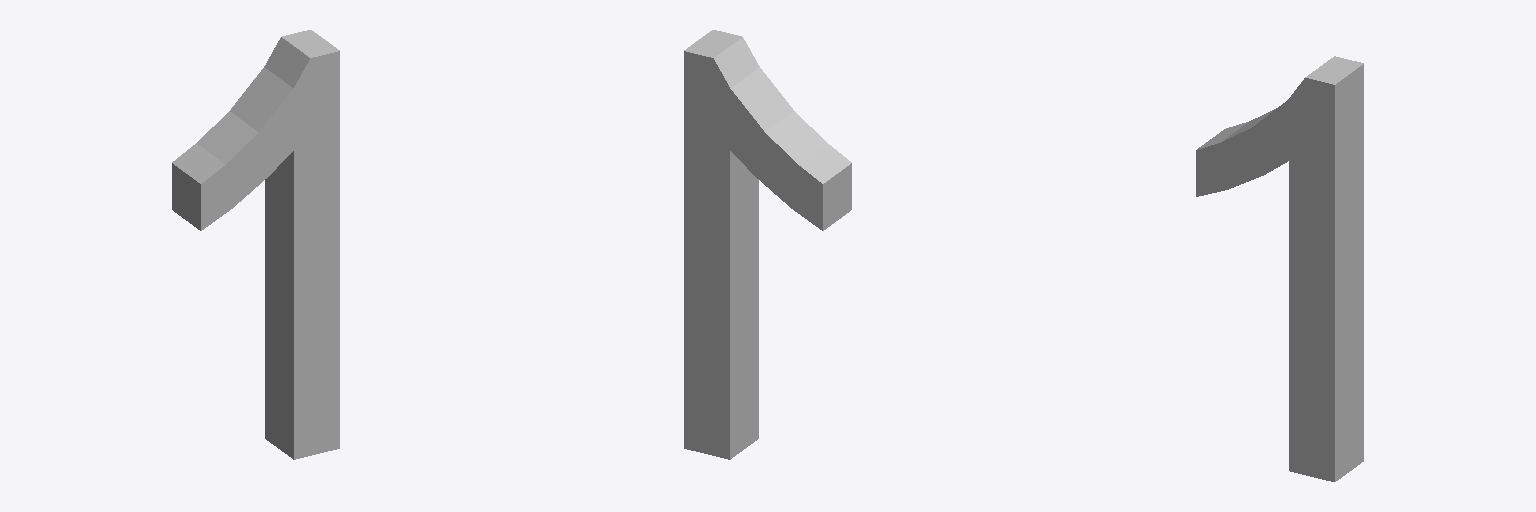
File: one_3006_01.obj
3 views of the same model, side by side, from view 1: azimuth 30°, elevation 25°; view 2: azimuth 150°, elevation 25°; view 3: azimuth 330°, elevation 25° (orthographic).
Visible parts, largest first — view 1: polySurface656 polySurface541; view 2: polySurface656 polySurface541; view 3: polySurface656 polySurface541.
Boxes of the visible parts, <box> form: polySurface656 polySurface541: <box>172,30,339,459</box>; polySurface656 polySurface541: <box>684,30,851,459</box>; polySurface656 polySurface541: <box>1196,56,1363,481</box>.
Bounding box in the file's own units: 0.4708 × 1.28 × 0.1719.